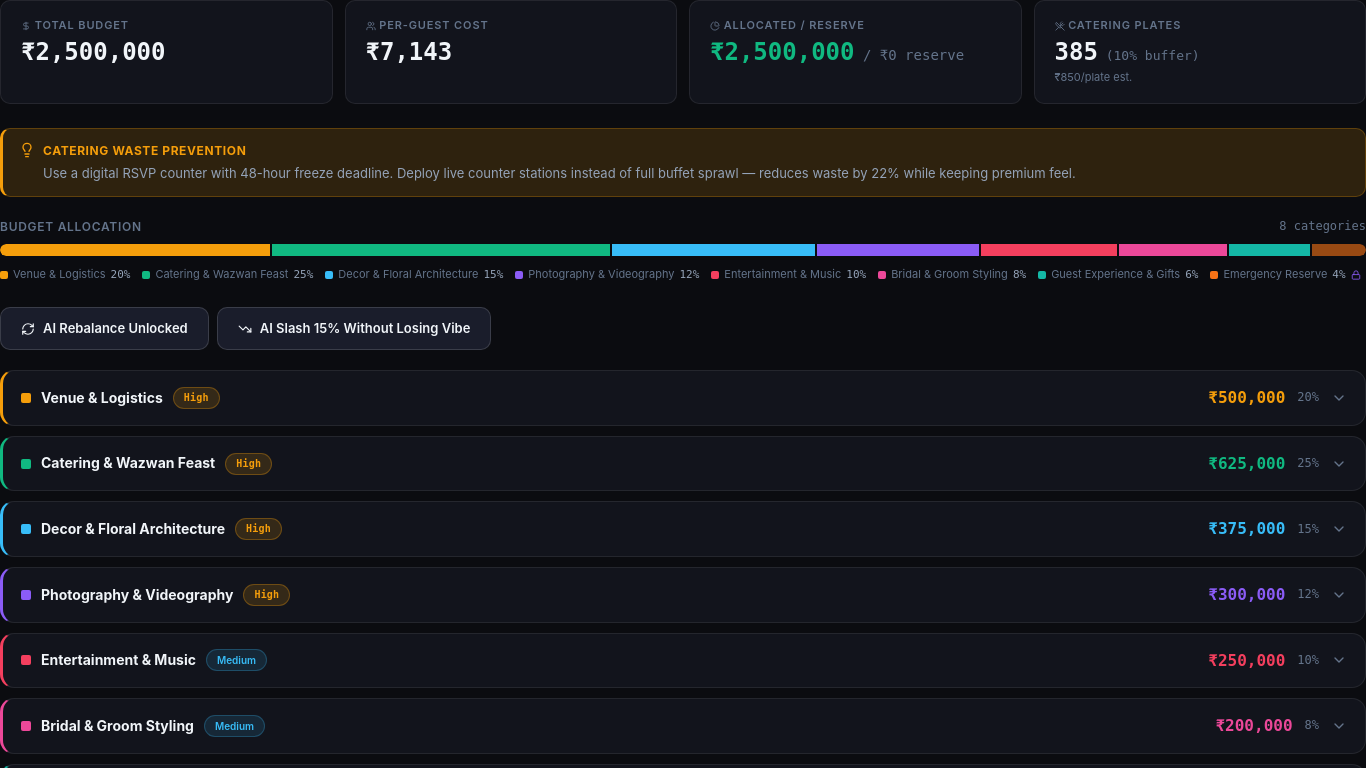
WCAG 2.1 AAA Accessibility & ARIA Compliance (All 7 Components) › BudgetMatrix Range Sliders & ARIA Attributes › verifies range sliders have role="slider" and valid ARIA attributes
What coordinates should you click on to do the following:
click the button with aria-label "details"
I would click on:
 (102, 397)
Its box is x1=21 y1=387 x2=1347 y2=409.
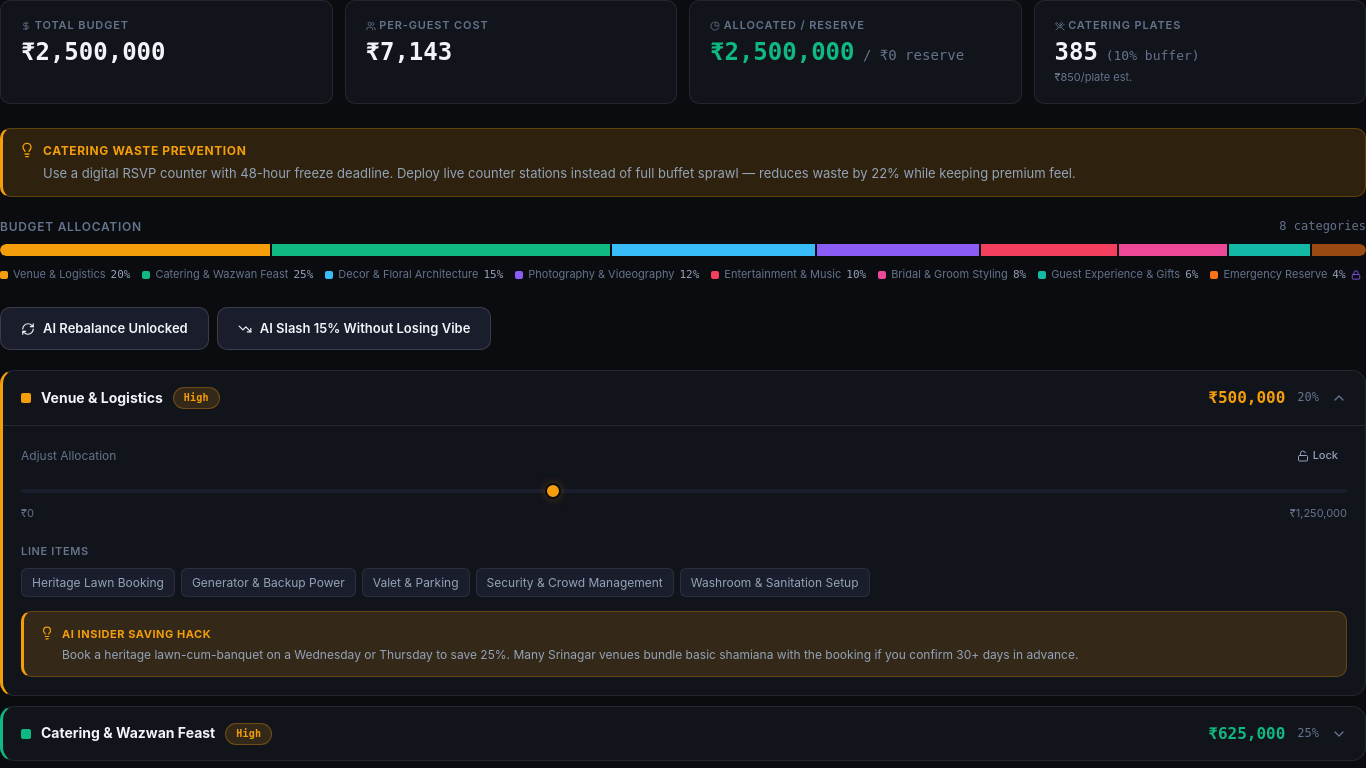
Expected: the slider is shown, x1=21 y1=489 x2=1347 y2=493
